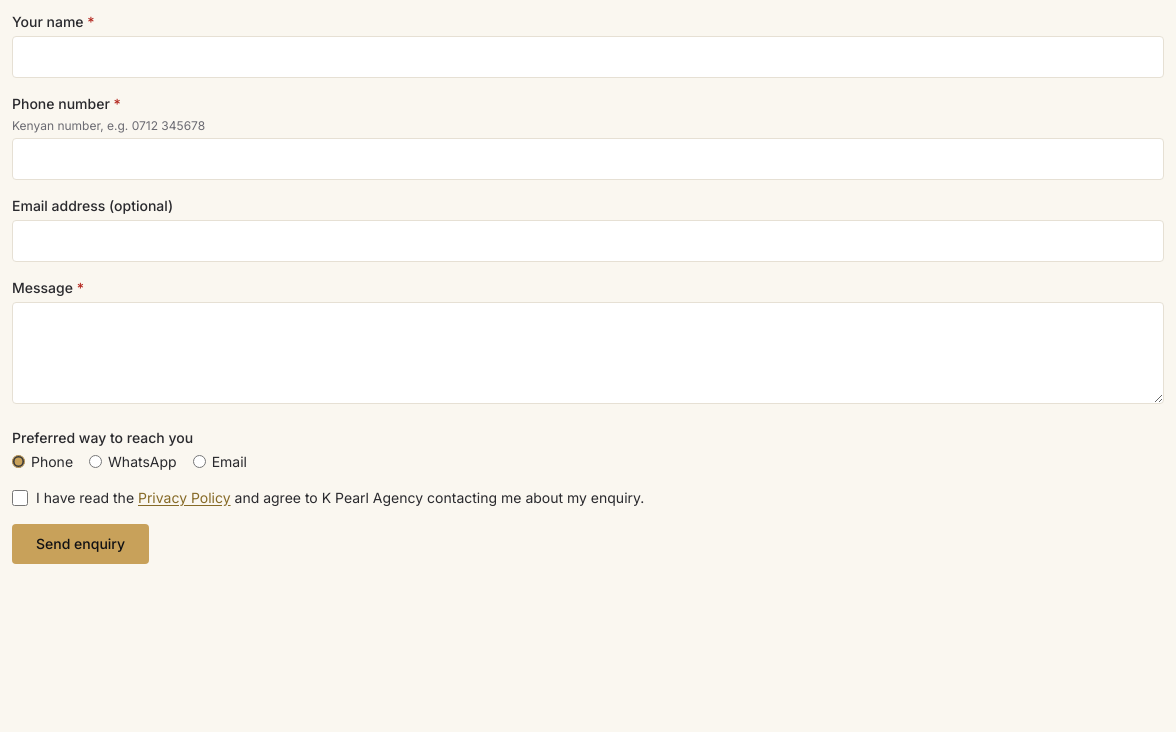
Test: EnquiryForm › shows field errors when submitted empty
The image size is (1176, 732).
Click the button "Send enquiry": [80, 544] box x1=12 y1=524 x2=149 y2=564
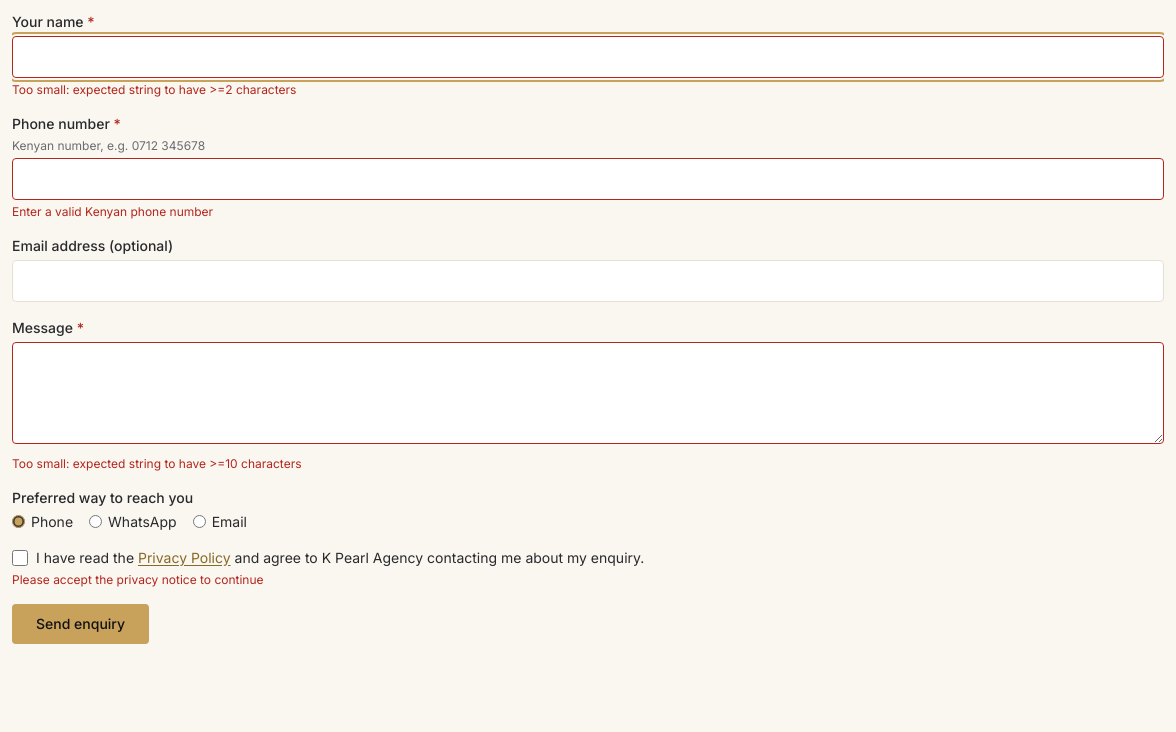
Check: the text "Please accept the privacy notice to continue" is shown, box x1=12 y1=572 x2=264 y2=587
